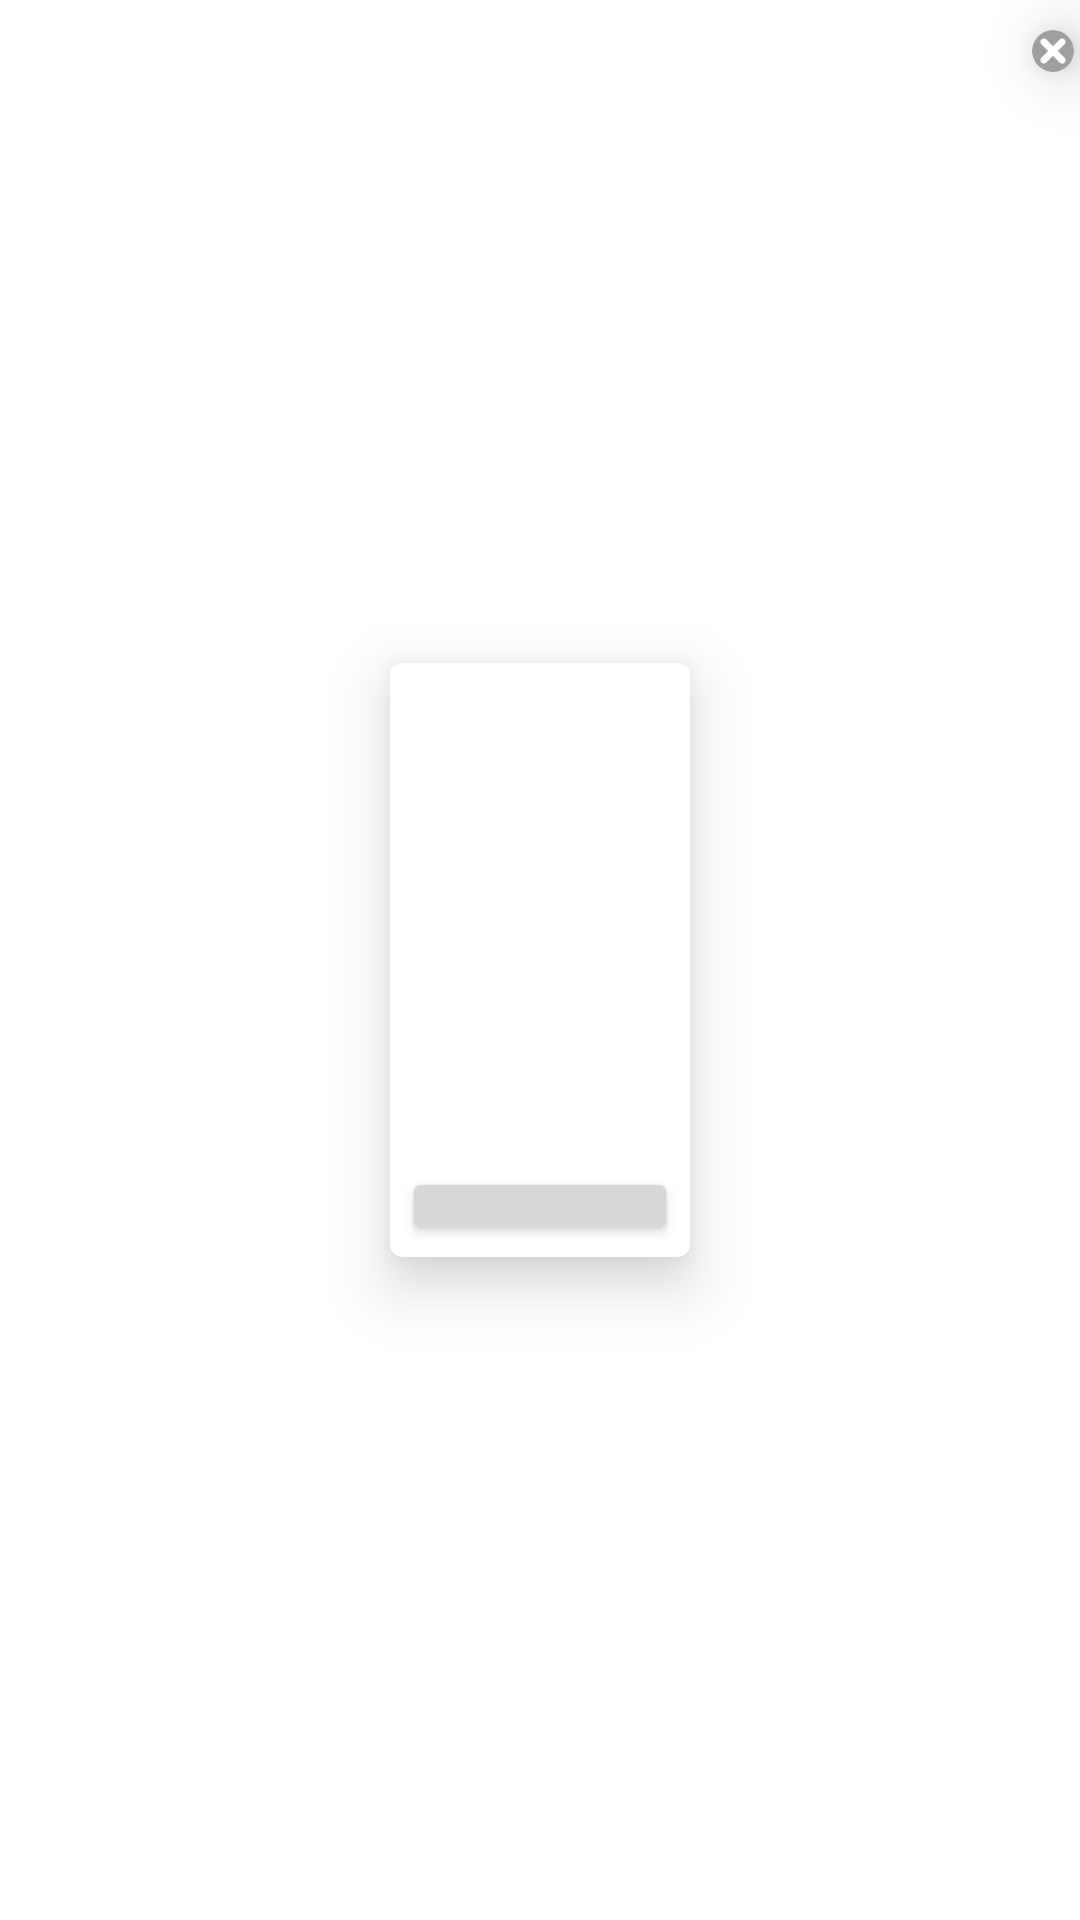

Screen size 1080px x 1920px. Icon name, then its box in pixels as (left=x1, top=y1, right=x2, bottom=y2):
close: (left=1032, top=30, right=1074, bottom=72)
